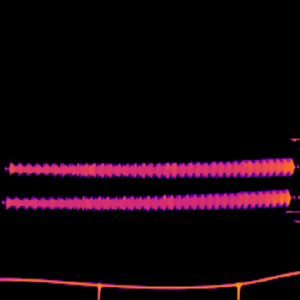insulator: (4, 156, 294, 209)
